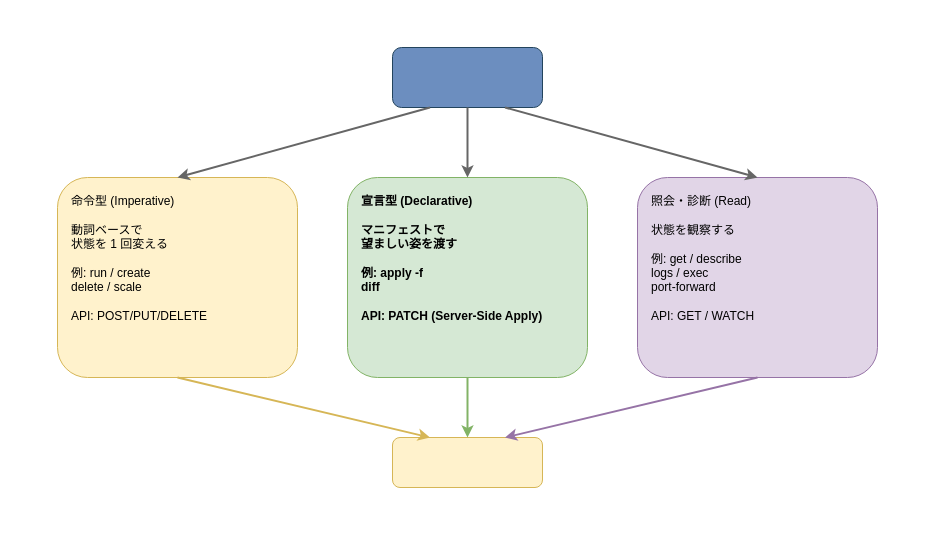
This 934x534 diagram has some shape labels left out. The shapes that lost their labels are listed below. From the top down, each one's centre as x and y in pixels, then its label:
point 467,77: kubectl CLI
point 467,462: kube-apiserver
